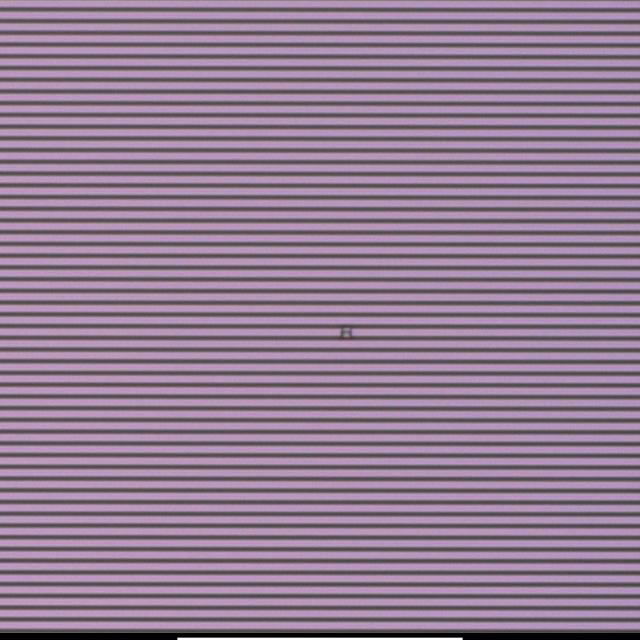03_intrusion: (338, 316, 356, 348)
